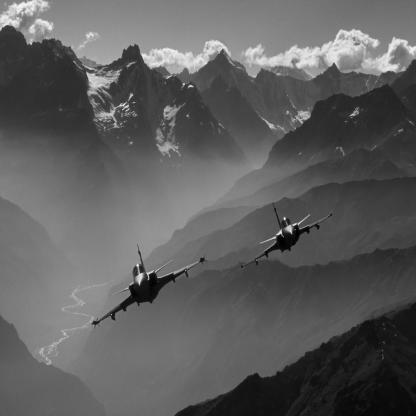JAS39: (92, 244, 209, 330), (242, 203, 333, 270)
